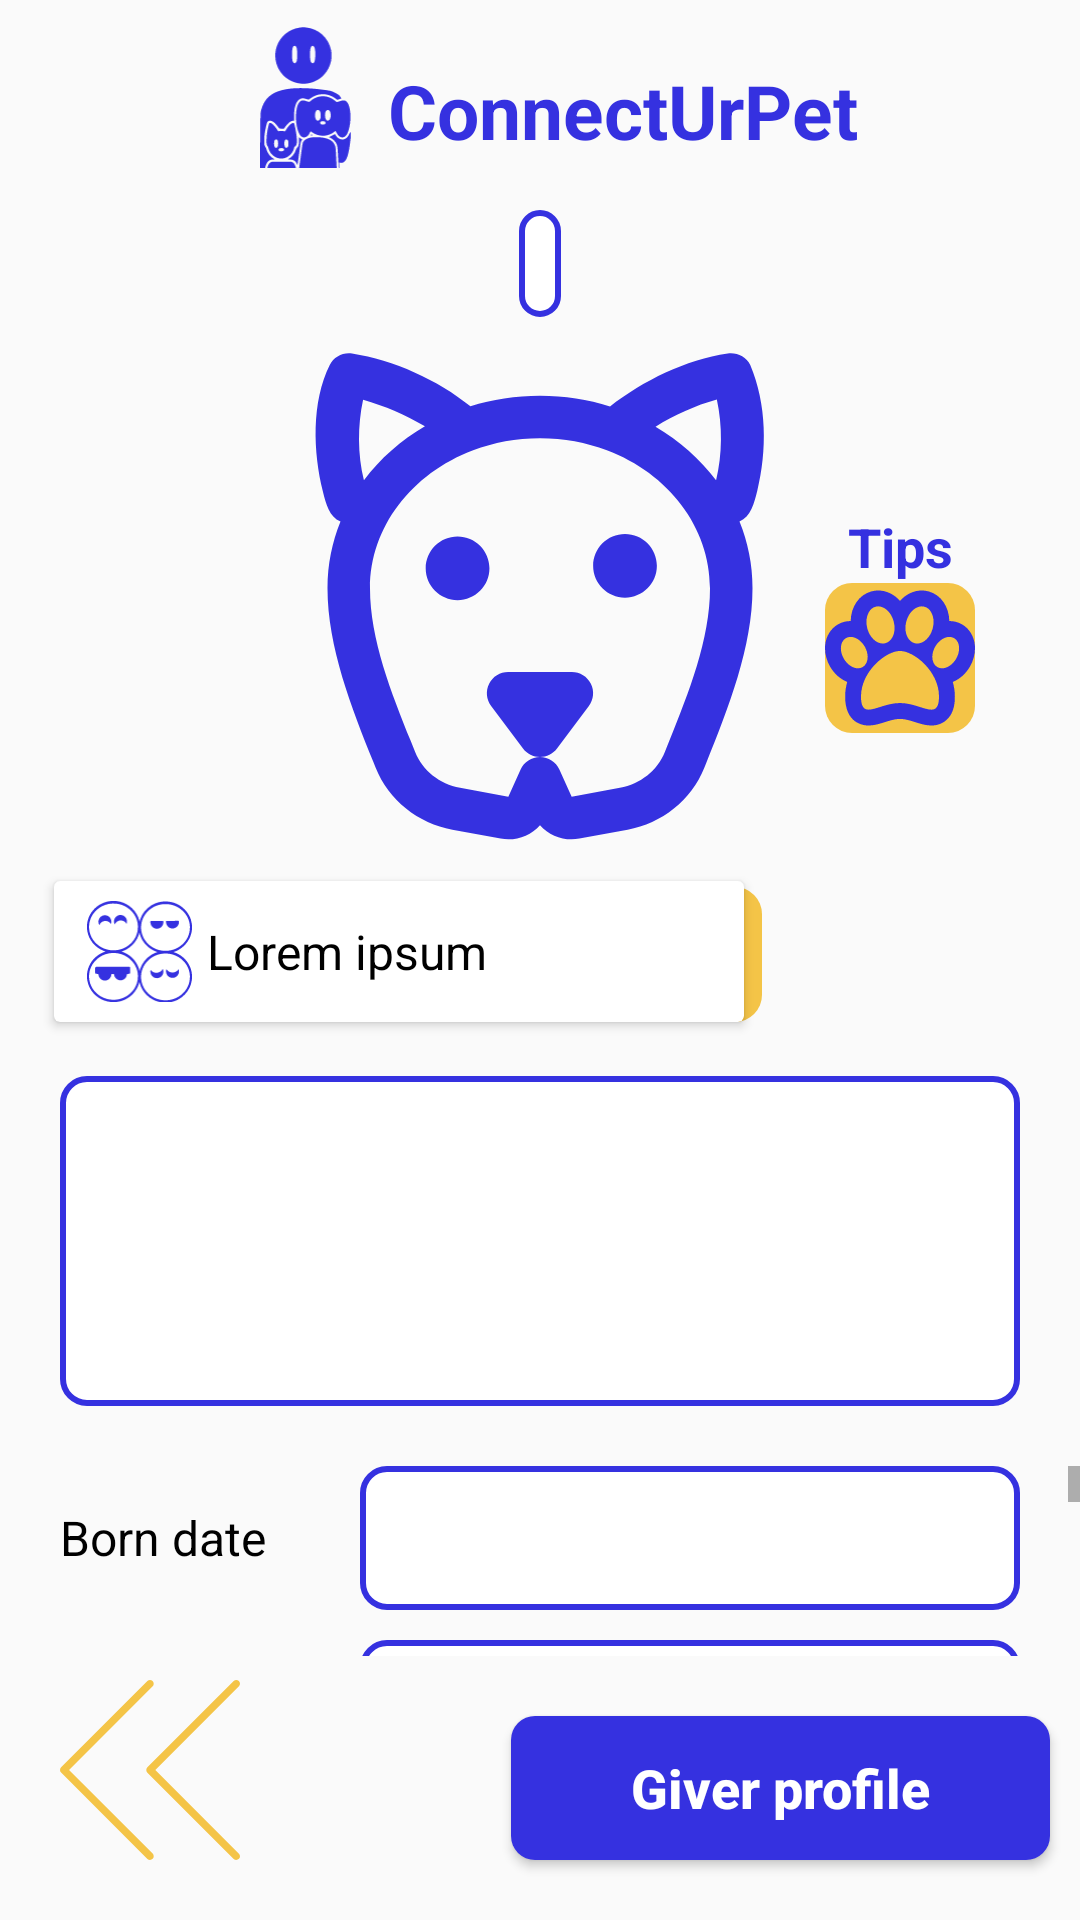

Screen size 1080*1920. Icon name, then its center in pixels as (x,y):
faces: (139,951)
pawprint: (900,658)
